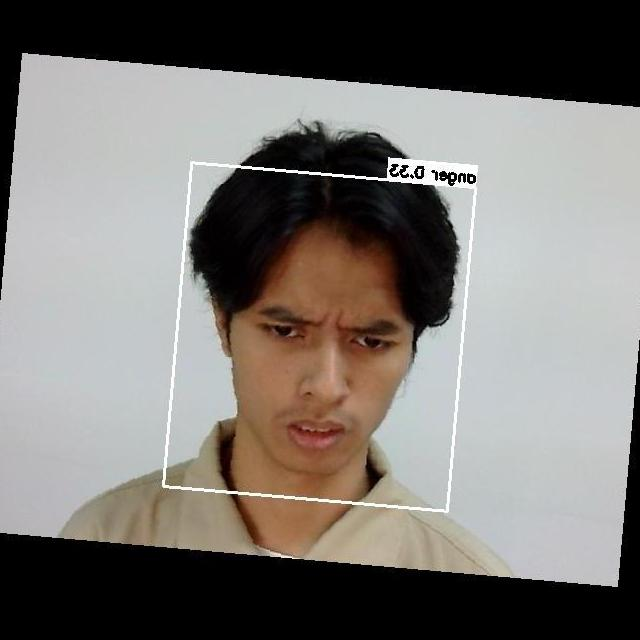Fear: (234, 272, 419, 468)
